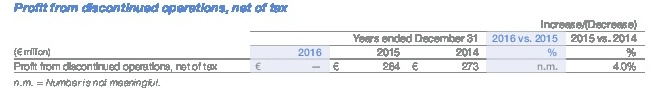table: (0, 0, 661, 101)
